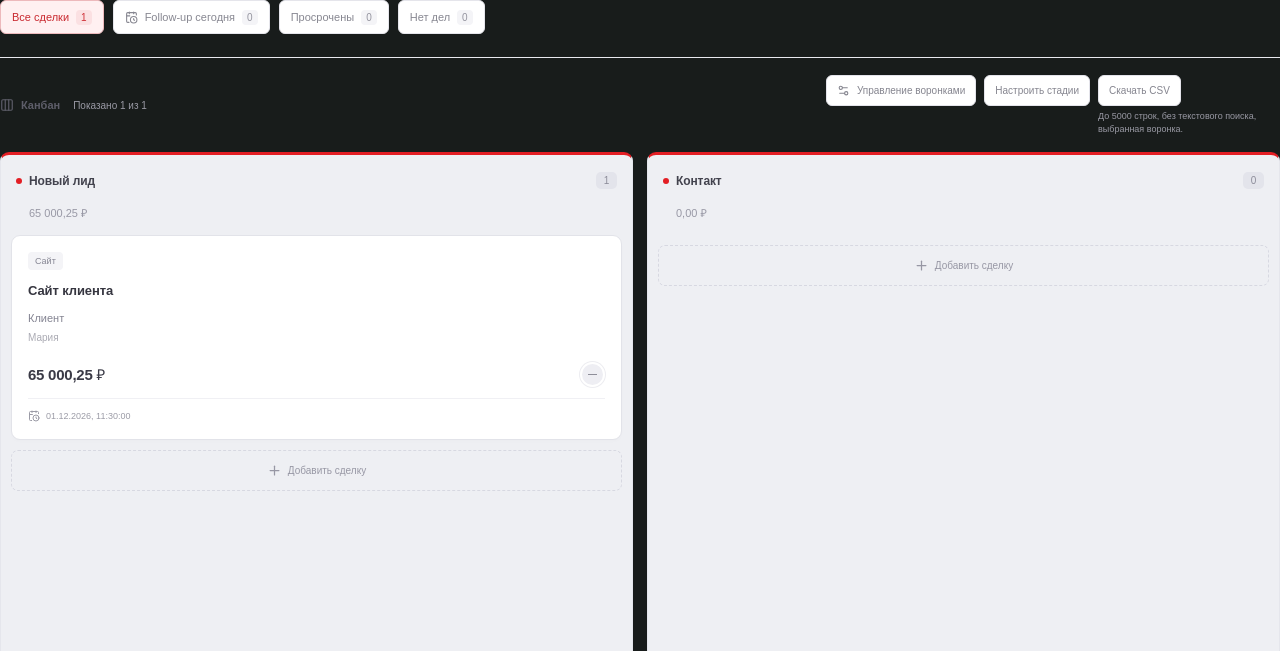
Test: CRM persistence › keeps the completion outcome when the server rejects it
The image size is (1280, 651).
(page scrolled)
Click the element named "Открыть Сайт клиента": x=316, y=338 [11,235,622,440]
(page scrolled)
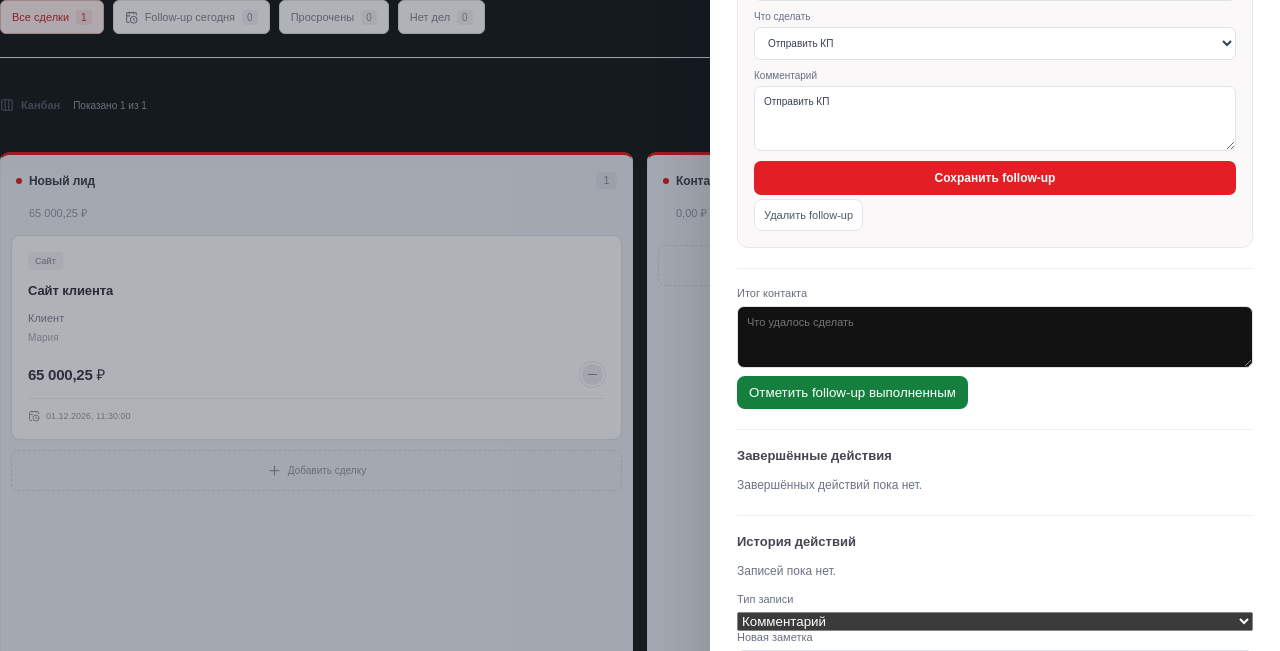
Expected: the text "Завершённых действий пока нет." is shown, [737,478,922,492]
In the text box labelled "Итог контакта": x=995, y=337 [737,306,1253,368], type "Повторить звонок"
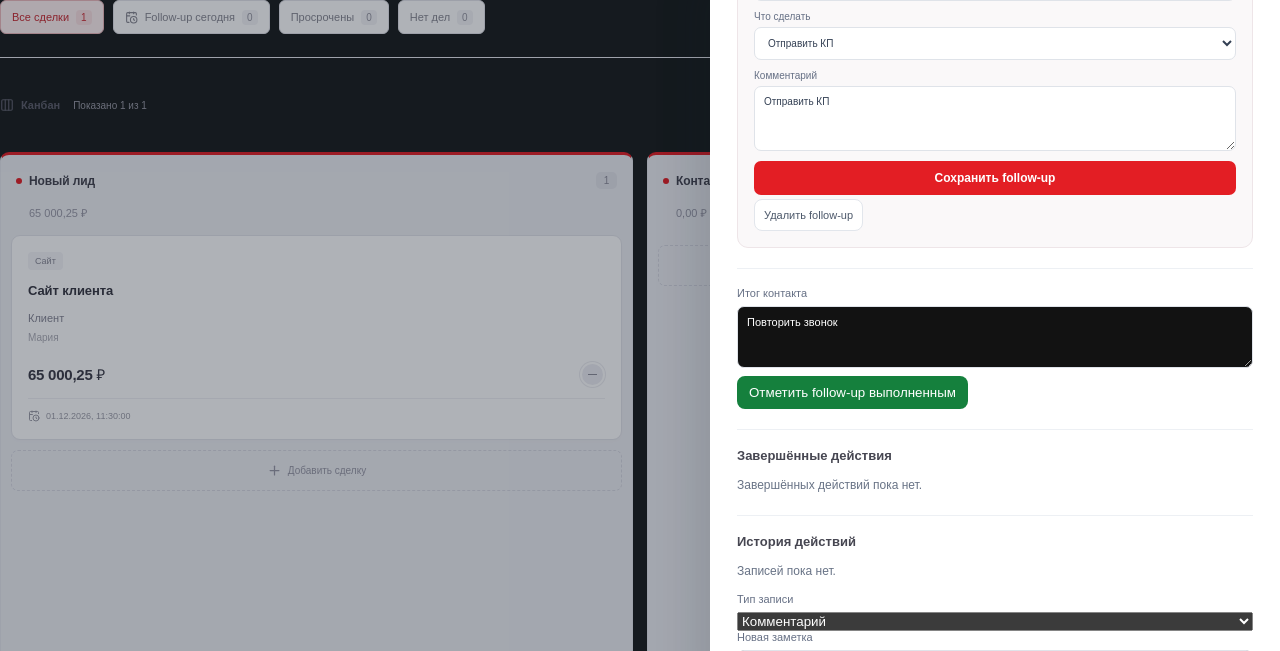
Click the button "Отметить follow-up выполненным": x=852, y=392 [737,376,968,409]
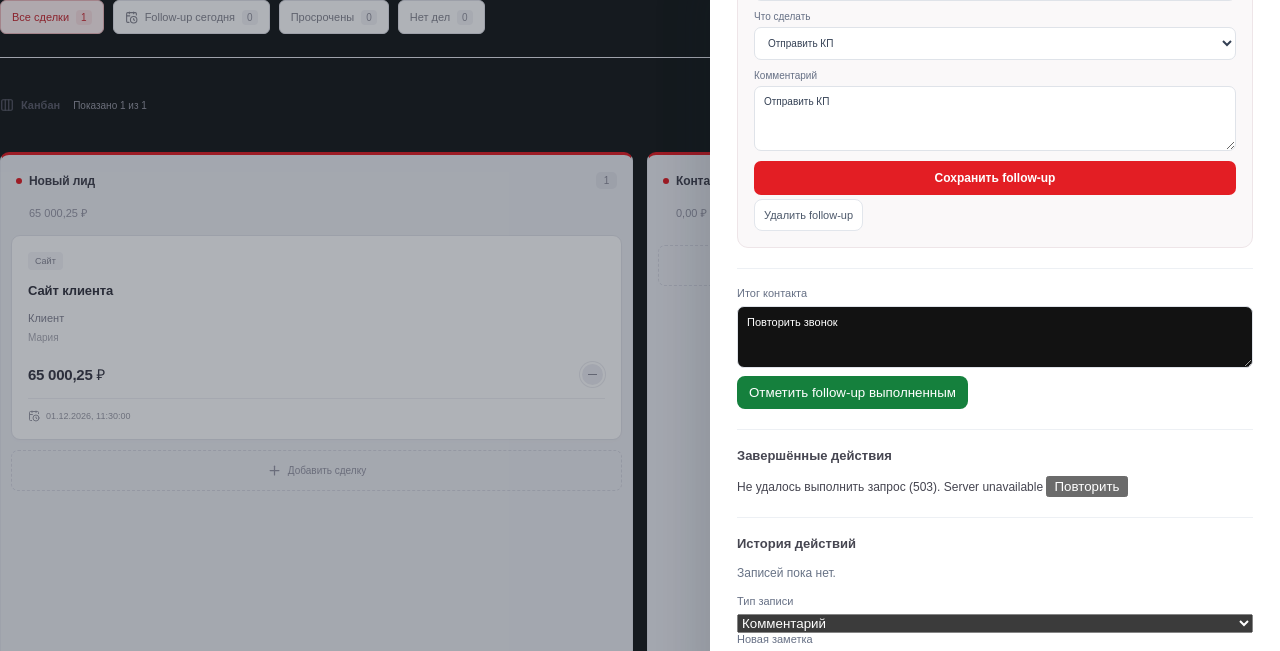
Expected: the message "Не удалось выполнить запрос (503). Server unavailable Повторить" is shown, [737,476,1128,497]
